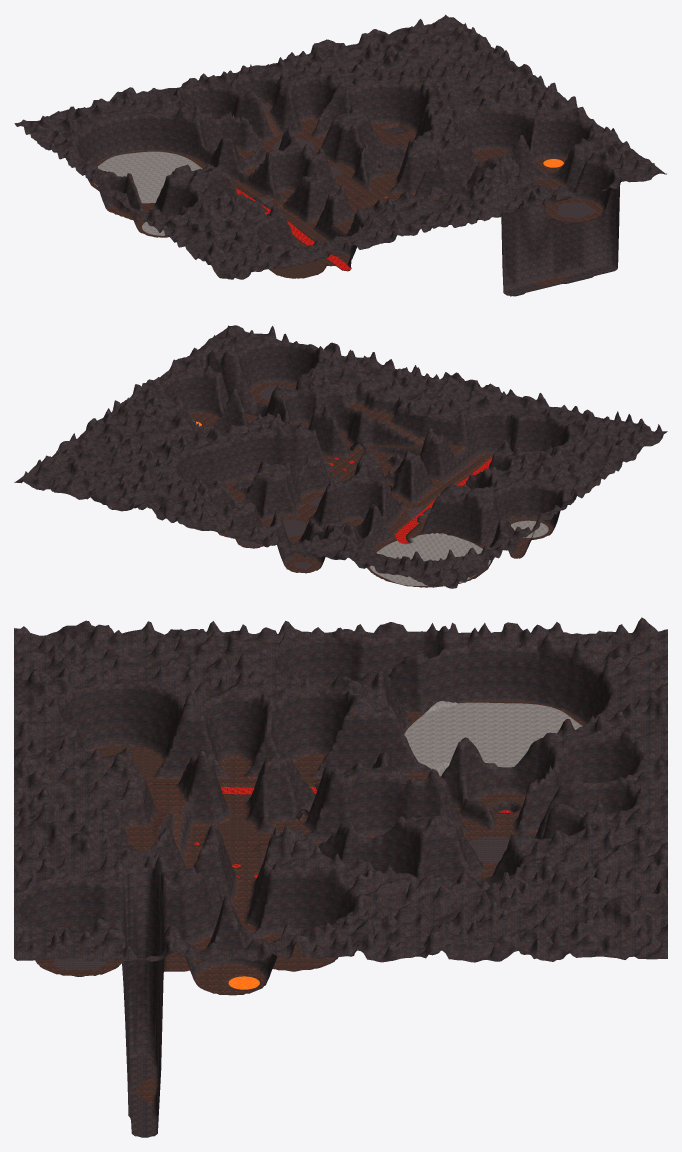
File: abyss_terrain.glb
3 views of the same model, one above another, from view 1: azimuth 30°, elevation 25°; view 2: azimuth 150°, elevation 25°; view 3: azimuth 270°, elevation 25° (orthographic). The views are drawn at different scales.
Parts seen in each view (by area): view 1: AbyssGround_5_3-col, AbyssGround_4_3-col, AbyssGround_1_0-col, AbyssGround_3_0-col, AbyssGround_4_1-col, AbyssGround_5_2-col, AbyssGround_2_0-col, AbyssGround_2_2-col, AbyssGround_5_4-col, AbyssGround_0_0-col, AbyssGround_3_1-col, AbyssGround_3_2-col (+19 smaller); view 2: AbyssGround_5_4-col, AbyssGround_2_4-col, AbyssGround_0_2-col, AbyssGround_3_4-col, AbyssGround_2_3-col, AbyssGround_3_3-col, AbyssGround_4_2-col, AbyssGround_1_4-col, AbyssGround_2_2-col, AbyssGround_3_2-col, AbyssGround_5_3-col, AbyssGround_0_4-col (+19 smaller); view 3: AbyssGround_0_1-col, AbyssGround_4_4-col, AbyssGround_1_3-col, AbyssGround_4_3-col, AbyssGround_1_2-col, AbyssGround_0_0-col, AbyssGround_0_4-col, AbyssGround_2_0-col, AbyssGround_2_2-col, AbyssGround_2_3-col, AbyssGround_4_2-col, AbyssGround_0_2-col (+18 smaller).
Boxes of the visible parts, box(x1,y1,x2,y2) form: AbyssGround_5_3-col: box(529, 106, 622, 280); AbyssGround_4_3-col: box(441, 135, 555, 293); AbyssGround_1_0-col: box(88, 87, 204, 169); AbyssGround_3_0-col: box(237, 49, 353, 135); AbyssGround_4_1-col: box(354, 64, 470, 151); AbyssGround_5_2-col: box(471, 75, 577, 155); AbyssGround_2_0-col: box(162, 70, 278, 150); AbyssGround_2_2-col: box(248, 142, 364, 218); AbyssGround_5_4-col: box(557, 141, 666, 284); AbyssGround_0_0-col: box(14, 104, 130, 179); AbyssGround_3_1-col: box(280, 82, 396, 165); AbyssGround_3_2-col: box(329, 124, 437, 197); AbyssGround_5_4-col: box(186, 325, 296, 415); AbyssGround_2_4-col: box(402, 372, 518, 464); AbyssGround_0_2-col: box(465, 477, 581, 553); AbyssGround_3_4-col: box(328, 352, 444, 423); AbyssGround_2_3-col: box(379, 415, 476, 495); AbyssGround_3_3-col: box(288, 395, 402, 473); AbyssGround_4_2-col: box(169, 412, 282, 488); AbyssGround_1_4-col: box(477, 393, 586, 466); AbyssGround_2_2-col: box(317, 449, 433, 527); AbyssGround_3_2-col: box(267, 422, 354, 507); AbyssGround_5_3-col: box(142, 357, 246, 432); AbyssGround_0_4-col: box(557, 409, 667, 462); AbyssGround_0_1-col: box(406, 622, 537, 734); AbyssGround_4_4-col: box(14, 839, 144, 1093); AbyssGround_1_3-col: box(144, 673, 275, 797); AbyssGround_4_3-col: box(144, 849, 275, 1093); AbyssGround_1_2-col: box(275, 672, 406, 795); AbyssGround_0_0-col: box(537, 617, 667, 734); AbyssGround_0_4-col: box(14, 620, 144, 721); AbyssGround_2_0-col: box(537, 730, 667, 839); AbyssGround_2_2-col: box(275, 751, 406, 846); AbyssGround_2_3-col: box(144, 750, 275, 849); AbyssGround_4_2-col: box(275, 840, 406, 960); AbyssGround_0_2-col: box(275, 621, 406, 734).
Size of the model in its own units: 592 by 172 by 500.
Materials: 7 (7 with a texture image).
